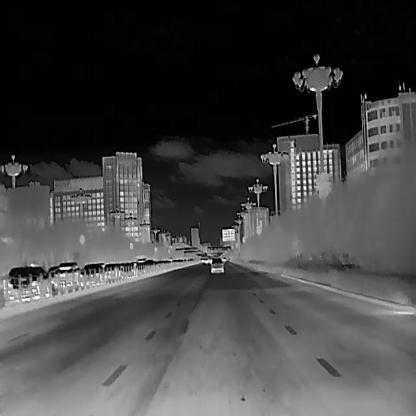car: (7, 265, 49, 296), (53, 262, 80, 286), (81, 262, 105, 284), (104, 262, 122, 278), (211, 258, 224, 272)
